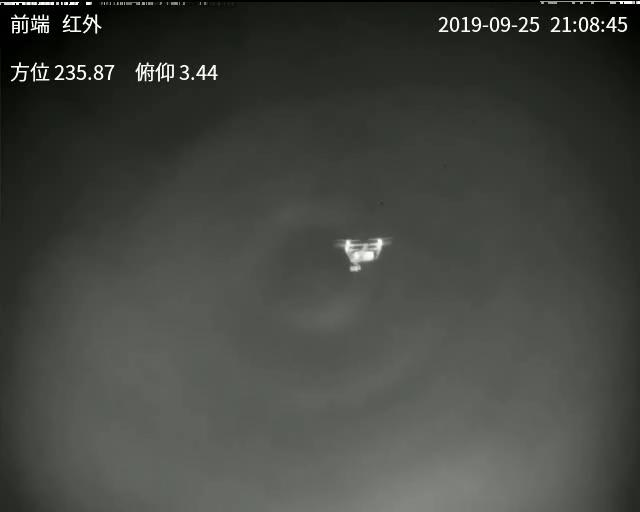uav: (339, 232, 386, 273)
